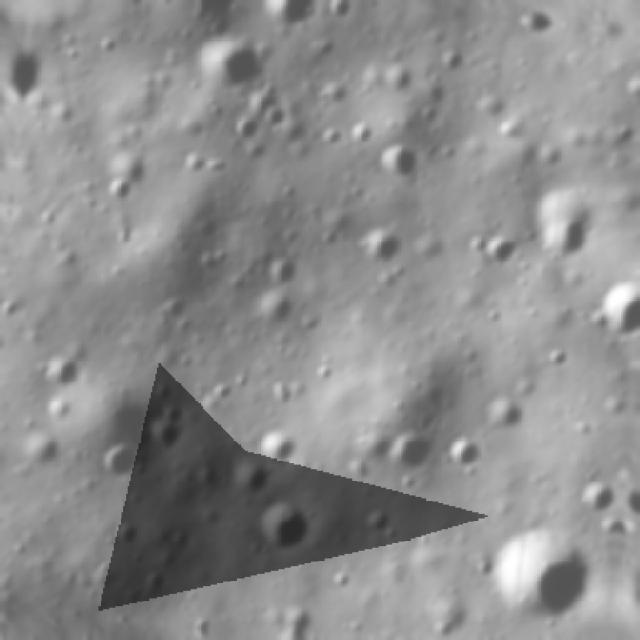crater: (484, 512, 604, 636), (192, 24, 276, 102), (531, 184, 607, 267), (248, 498, 315, 564), (589, 272, 640, 342), (387, 426, 439, 482), (470, 393, 528, 442), (96, 437, 150, 488), (254, 0, 323, 37), (438, 430, 487, 481), (354, 223, 404, 271), (17, 430, 69, 475), (34, 351, 84, 397), (568, 474, 615, 521), (377, 139, 426, 183), (139, 418, 192, 458), (226, 459, 274, 503), (248, 290, 298, 332), (257, 427, 308, 468), (374, 59, 418, 103), (484, 228, 527, 272), (279, 601, 326, 640), (97, 172, 140, 214), (421, 600, 465, 640), (265, 251, 306, 292), (136, 562, 178, 602), (106, 512, 148, 552), (22, 54, 52, 109), (358, 502, 398, 541), (227, 112, 267, 148), (39, 390, 76, 428), (258, 98, 296, 133), (435, 43, 470, 79), (344, 116, 379, 150), (158, 399, 196, 430), (338, 459, 374, 487), (321, 0, 356, 28), (607, 118, 640, 147), (460, 230, 494, 258), (207, 378, 239, 407), (595, 514, 620, 546), (544, 345, 571, 373), (615, 72, 640, 102), (385, 631, 424, 640), (18, 605, 53, 612)
